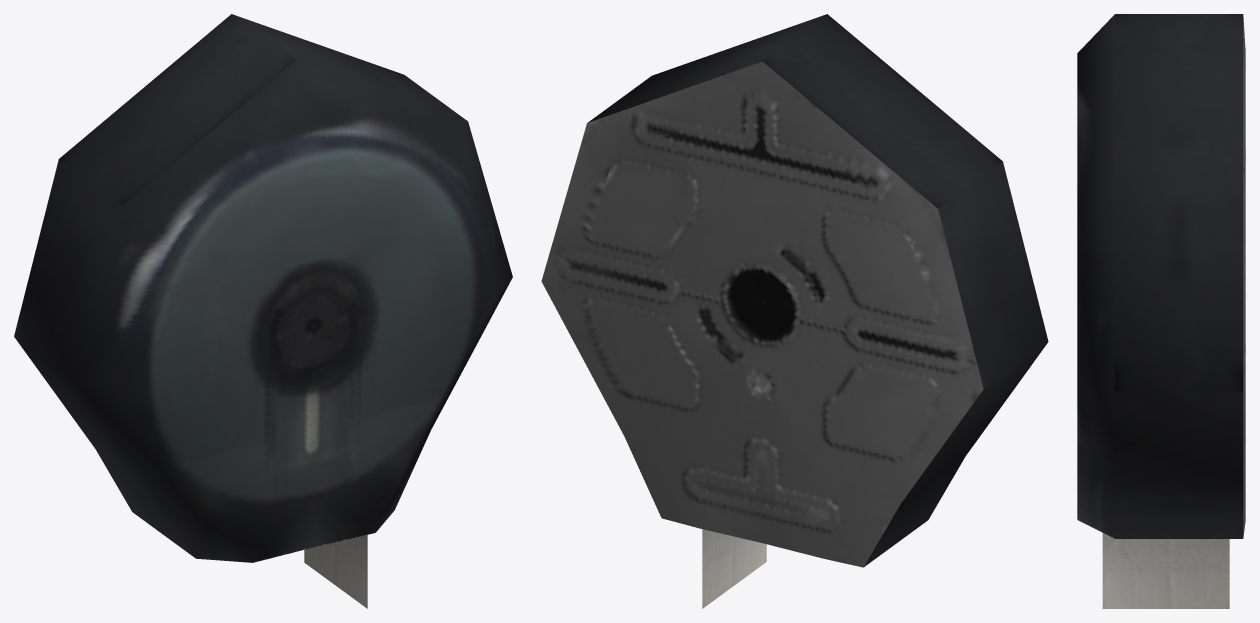
File: Paper_dispenser.dae
The picture shows the model from 3 angles, left to right: view 1: azimuth 30°, elevation 25°; view 2: azimuth 150°, elevation 25°; view 3: azimuth 270°, elevation 25°; orthographic projection.
Visible parts, largest first — view 1: Paper_dispenser; view 2: Paper_dispenser; view 3: Paper_dispenser.
Part boxes in pixels (x1,y1,x2,y2): Paper_dispenser: (14, 14, 512, 608); Paper_dispenser: (541, 14, 1048, 608); Paper_dispenser: (1077, 14, 1245, 608).
Size of the model in its own units: 0.5008 by 0.1673 by 0.6157.
Materials: 1 (1 with a texture image).
